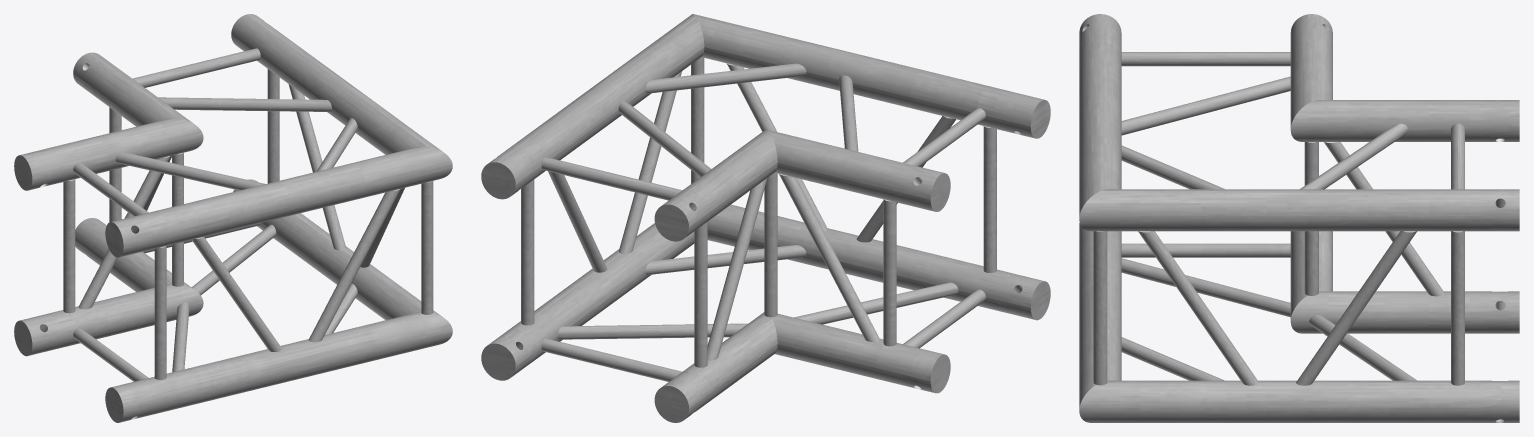
The model's file is Milos_M290V_21_0418_Quattro_90_Corner-370b4a86.glb.
3 views of the same model, side by side, from view 1: azimuth 30°, elevation 25°; view 2: azimuth 150°, elevation 25°; view 3: azimuth 270°, elevation 25° (orthographic). The views are drawn at different scales.
Visible parts, largest first — view 1: Geom3D; view 2: Geom3D; view 3: Geom3D.
Boxes of the visible parts, x1,y1,x2,y2 form: Geom3D: (14,14,452,422); Geom3D: (481,14,1050,422); Geom3D: (1079,14,1519,422).
Bounding box in the file's own units: 0.5 × 0.288 × 0.5.
2 materials, 1 textured.
